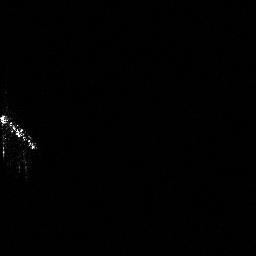ship: (1, 111, 39, 175)
